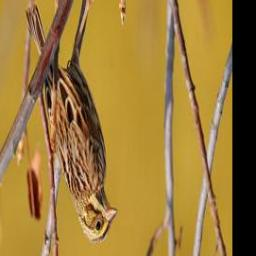Sparrow: (23, 0, 116, 247)
